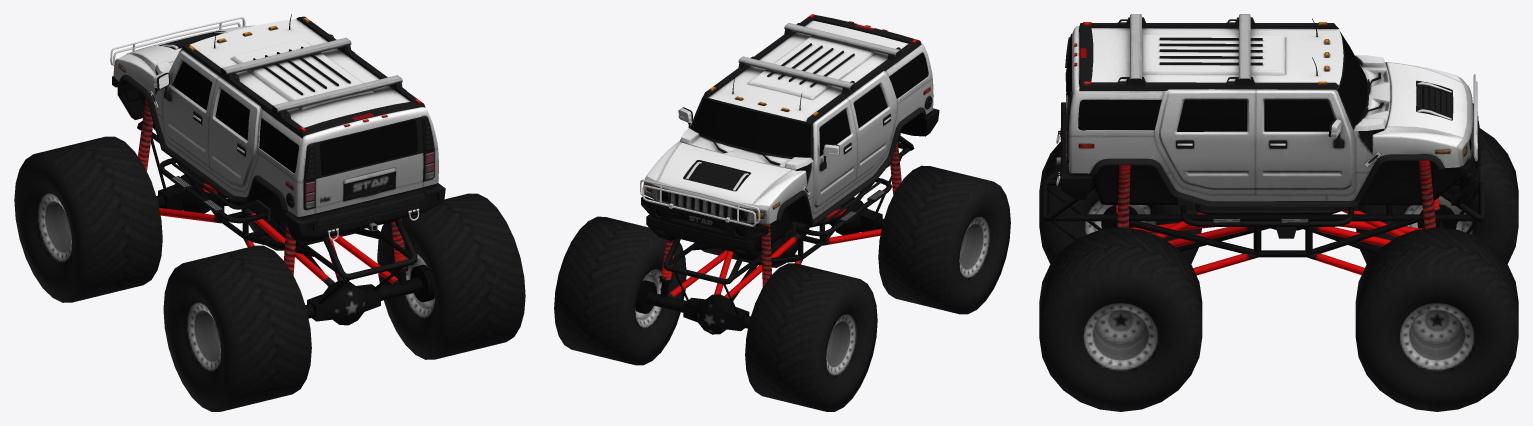
The model's file is Boost_Hummer_monster.fbx.
3 views of the same model, side by side, from view 1: azimuth 30°, elevation 25°; view 2: azimuth 150°, elevation 25°; view 3: azimuth 270°, elevation 25° (orthographic). The views are drawn at different scales.
Parts seen in each view (by area): view 1: Body, Wheel_back_left, Wheel_front_left, Wheel_back_right, Glass; view 2: Body, Wheel_back_left, Wheel_front_left, Wheel_front_right, Glass, Wheel_back_right; view 3: Body, Wheel_front_right, Wheel_back_right, Glass, Wheel_front_left, Wheel_back_left.
Part boxes in pixels (bbox=[...]): Body: bbox=[110, 14, 445, 325]; Wheel_back_left: bbox=[163, 245, 311, 411]; Wheel_front_left: bbox=[14, 136, 162, 302]; Wheel_back_right: bbox=[377, 193, 525, 359]; Glass: bbox=[172, 61, 417, 175]; Body: bbox=[635, 14, 939, 334]; Wheel_back_left: bbox=[878, 165, 1010, 314]; Wheel_front_left: bbox=[745, 263, 877, 411]; Wheel_front_right: bbox=[554, 216, 686, 365]; Glass: bbox=[655, 53, 928, 236]; Wheel_back_right: bbox=[701, 228, 809, 267]; Body: bbox=[1042, 14, 1484, 275]; Wheel_front_right: bbox=[1355, 227, 1518, 411]; Wheel_back_right: bbox=[1039, 227, 1202, 411]; Glass: bbox=[1067, 32, 1477, 168]; Wheel_front_left: bbox=[1356, 128, 1518, 263]; Wheel_back_left: bbox=[1039, 141, 1201, 263].
Bounding box in the file's own units: 4.09 × 3.75 × 5.42.
Materials: 4 (3 with a texture image).
